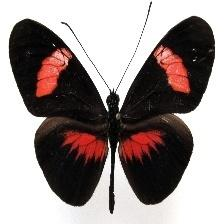butterfly: (9, 17, 215, 212)
